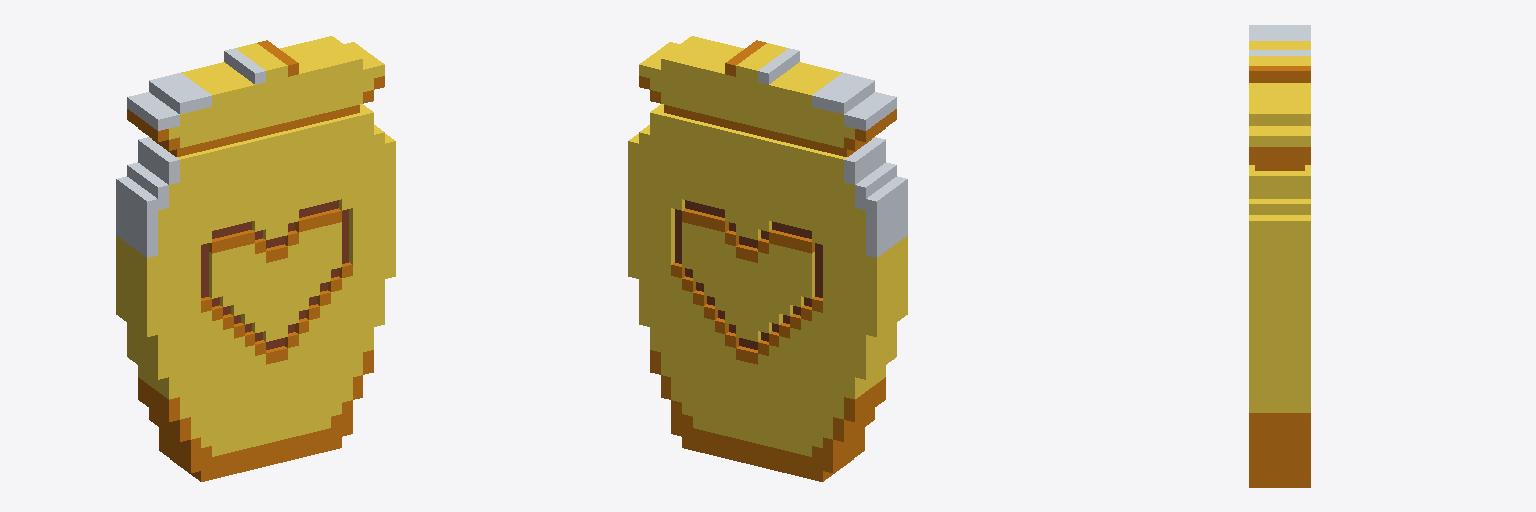
The model's file is Urn2.obj.
The picture shows the model from 3 angles: view 1: azimuth 30°, elevation 25°; view 2: azimuth 150°, elevation 25°; view 3: azimuth 270°, elevation 25°; orthographic projection.
Size of the model in its own units: 23 by 35 by 5.